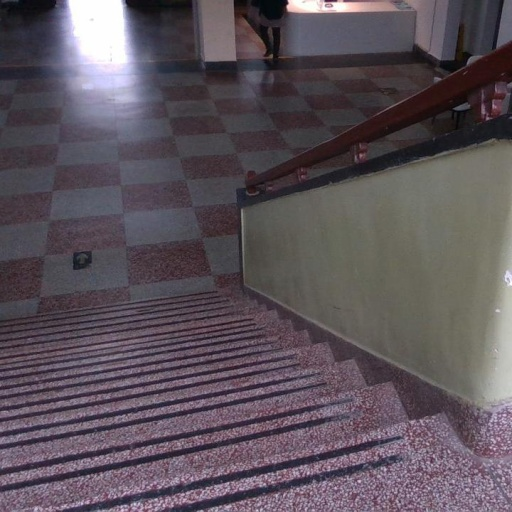Stairs: (0, 291, 512, 512)
